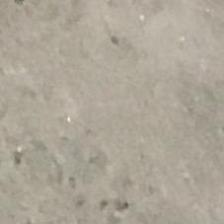Non_Crack: (20, 36, 207, 218)
